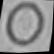no answer: (4, 0, 45, 52)
